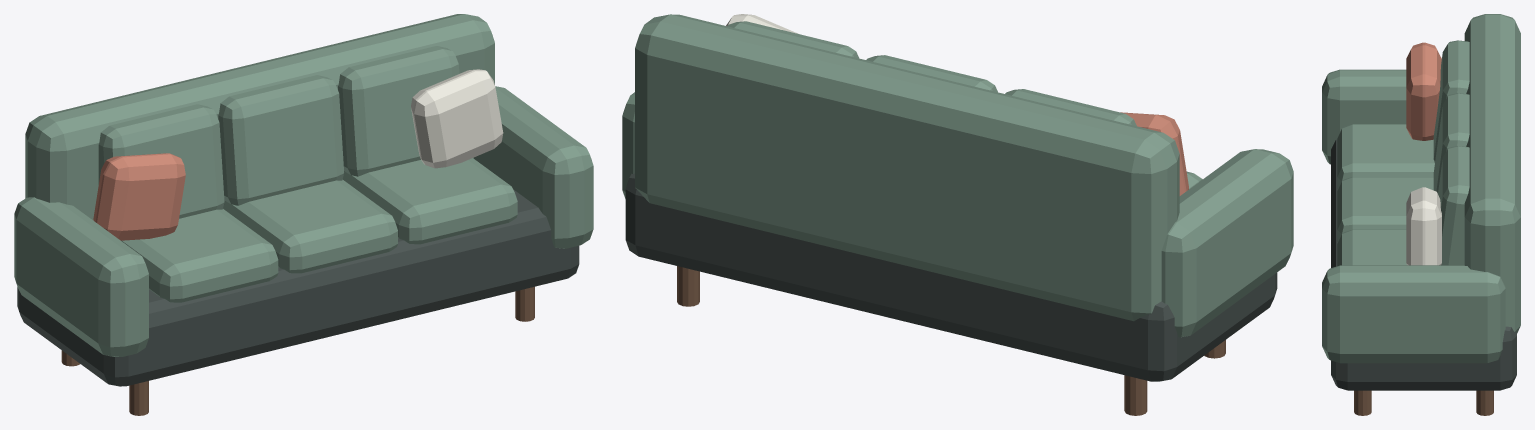
File: sofa.glb
3 views of the same model, side by side, from view 1: azimuth 30°, elevation 25°; view 2: azimuth 150°, elevation 25°; view 3: azimuth 270°, elevation 25° (orthographic). The views are drawn at different scales.
Visible parts, largest first — view 1: sofa Sage upholstery, Sofa frame, Linen pillow, Coral pillow, sofa Walnut accents; view 2: sofa Sage upholstery, Sofa frame, sofa Walnut accents, Coral pillow; view 3: sofa Sage upholstery, Sofa frame, Coral pillow, Linen pillow, sofa Walnut accents.
Part boxes in pixels (x1,y1,x2,y2): sofa Sage upholstery: [14, 14, 593, 356]; Sofa frame: [17, 189, 579, 386]; Linen pillow: [411, 69, 503, 168]; Coral pillow: [93, 153, 185, 240]; sofa Walnut accents: [61, 286, 534, 415]; sofa Sage upholstery: [622, 14, 1293, 337]; Sofa frame: [625, 173, 1277, 381]; sofa Walnut accents: [677, 266, 1225, 415]; Coral pillow: [1120, 112, 1188, 195]; sofa Sage upholstery: [1322, 14, 1520, 363]; Sofa frame: [1331, 139, 1516, 390]; Coral pillow: [1406, 42, 1441, 140]; Linen pillow: [1406, 187, 1441, 265]; sofa Walnut accents: [1354, 390, 1493, 415].
Bounding box in the file's own units: 2.02 × 0.955 × 0.78.
